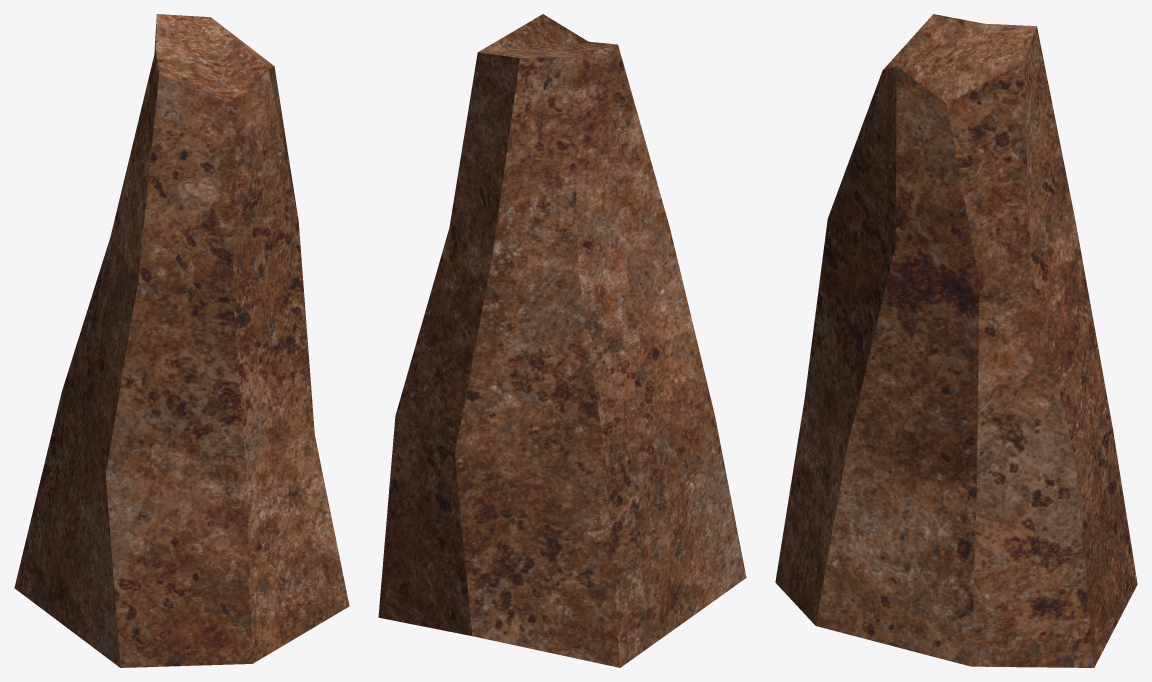
The model's file is rock5.glb.
The picture shows the model from 3 angles, left to right: view 1: azimuth 30°, elevation 25°; view 2: azimuth 150°, elevation 25°; view 3: azimuth 270°, elevation 25°; orthographic projection. The views are drawn at different scales.
Visible parts, largest first — view 1: Broken_Stal; view 2: Broken_Stal; view 3: Broken_Stal.
Boxes of the visible parts, <box> form: Broken_Stal: <box>14,14,349,667</box>; Broken_Stal: <box>378,14,746,667</box>; Broken_Stal: <box>775,14,1137,667</box>.
Size of the model in its own units: 0.7925 by 1.58 by 0.8873.
Materials: 1 (1 with a texture image).
